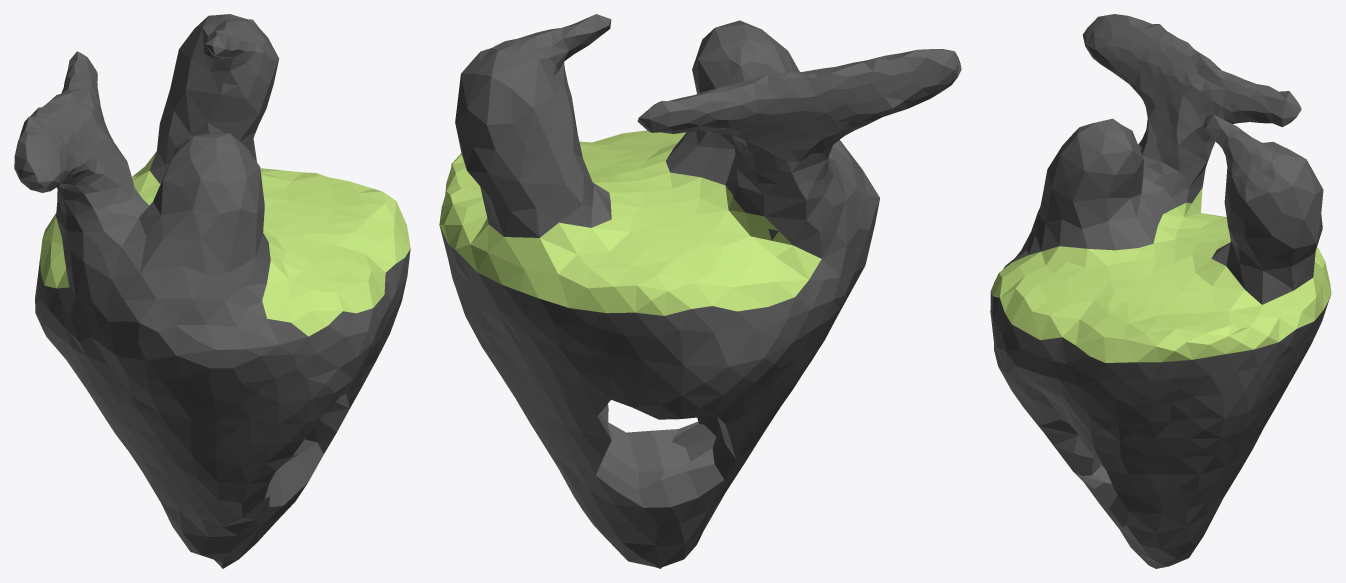
The model's file is floatingIsland02.fbx.
The picture shows the model from 3 angles, left to right: view 1: azimuth 30°, elevation 25°; view 2: azimuth 150°, elevation 25°; view 3: azimuth 270°, elevation 25°; orthographic projection. The views are drawn at different scales.
Parts seen in each view (by area): view 1: floatingIsland02; view 2: floatingIsland02; view 3: floatingIsland02.
Boxes of the visible parts, left/top/right/bottom form: floatingIsland02: left=14, top=14, right=410, bottom=568; floatingIsland02: left=439, top=14, right=961, bottom=568; floatingIsland02: left=990, top=14, right=1331, bottom=568.
Size of the model in its own units: 11000 by 13070 by 8676.
